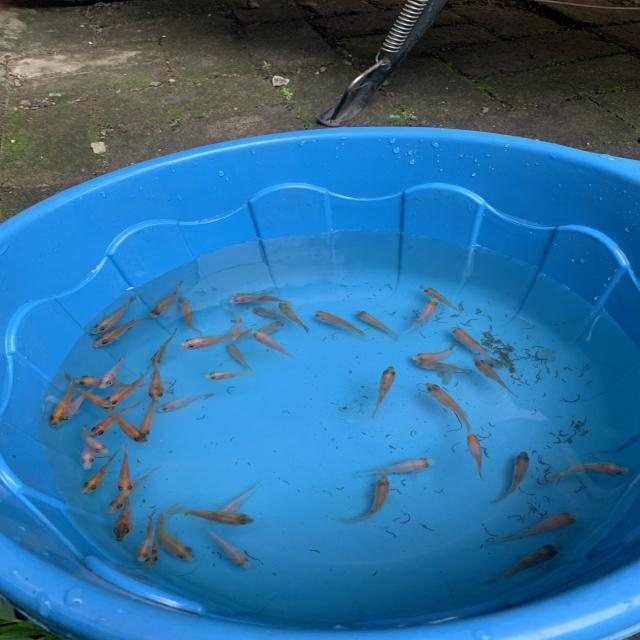nila: (484, 538, 572, 589), (490, 508, 584, 546), (336, 474, 394, 530), (421, 383, 479, 436), (88, 314, 160, 355), (487, 447, 534, 507), (103, 464, 160, 512), (96, 364, 154, 410), (85, 293, 139, 338), (100, 403, 154, 448), (80, 444, 124, 496), (548, 460, 632, 487), (362, 363, 399, 424), (156, 502, 194, 561), (172, 502, 258, 528), (355, 455, 441, 481), (89, 399, 140, 442), (176, 328, 256, 355), (451, 324, 505, 364), (246, 328, 306, 362), (214, 478, 263, 519), (58, 381, 103, 425), (206, 532, 254, 572), (470, 356, 520, 394), (305, 308, 369, 337), (45, 376, 77, 432), (148, 278, 187, 322), (156, 390, 217, 417), (109, 487, 137, 545), (76, 420, 117, 457), (268, 300, 312, 334), (351, 308, 399, 339), (421, 285, 469, 315), (148, 322, 181, 365), (72, 379, 115, 412), (460, 430, 488, 480), (222, 340, 262, 375), (129, 512, 156, 562), (76, 427, 102, 478), (406, 297, 443, 332), (77, 372, 150, 389), (98, 352, 129, 392), (144, 358, 168, 406), (137, 395, 162, 441), (117, 442, 137, 499), (175, 294, 203, 334), (407, 357, 472, 374), (409, 343, 464, 363), (237, 322, 289, 340), (226, 292, 298, 305), (141, 530, 165, 568), (250, 303, 288, 325), (227, 288, 273, 306), (226, 309, 247, 342), (198, 369, 260, 380)
